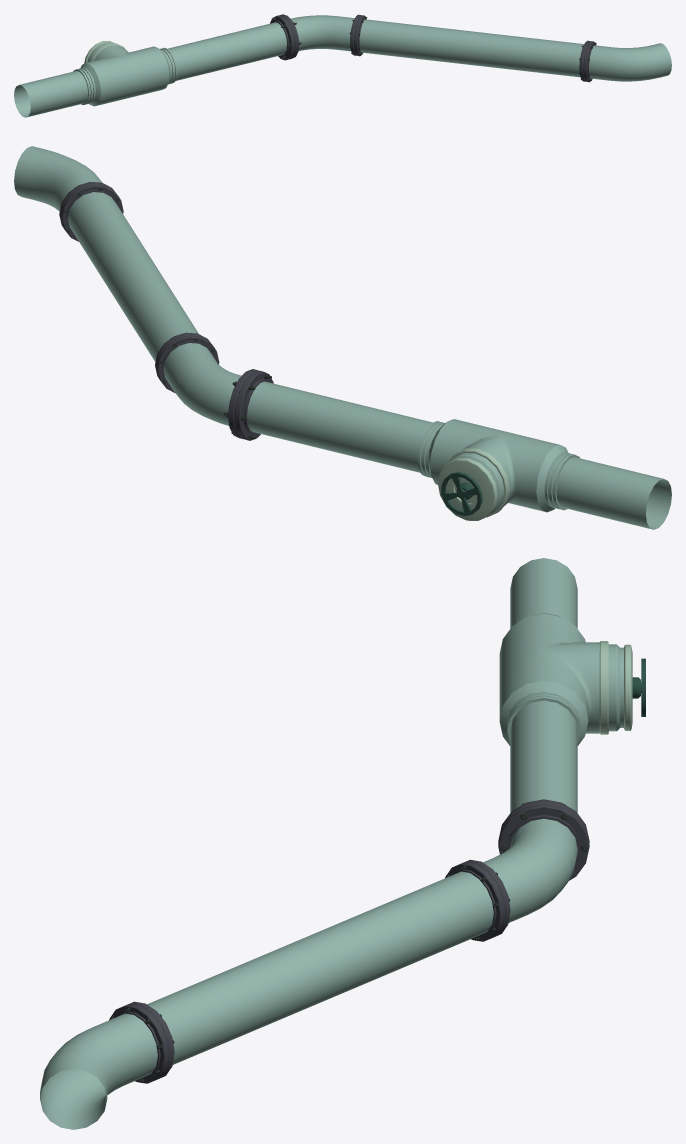
The model's file is PipeComplexLarge_A2_14.fbx.
3 views of the same model, one above another, from view 1: azimuth 30°, elevation 25°; view 2: azimuth 150°, elevation 25°; view 3: azimuth 270°, elevation 25° (orthographic). The views are drawn at different scales.
Visible parts, largest first — view 1: PipeComplexLarge_A2_14.001; view 2: PipeComplexLarge_A2_14.001; view 3: PipeComplexLarge_A2_14.001.
Part boxes in pixels (left/top/right/bottom): PipeComplexLarge_A2_14.001: left=14, top=14, right=671, bottom=117; PipeComplexLarge_A2_14.001: left=14, top=146, right=671, bottom=529; PipeComplexLarge_A2_14.001: left=40, top=558, right=645, bottom=1129.
Size of the model in its own units: 3.6 by 0.2785 by 1.8.
